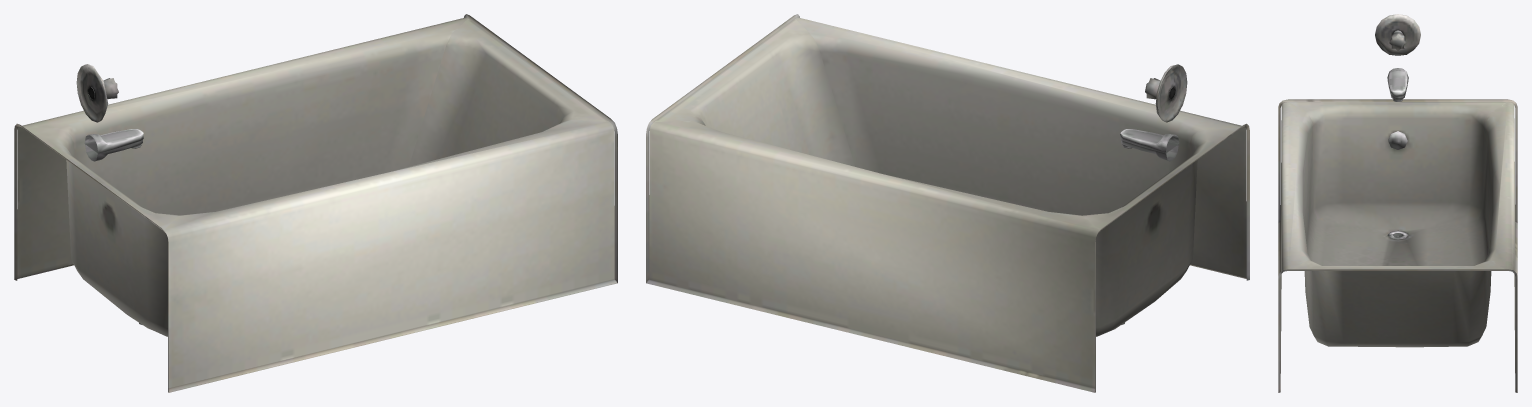
The model's file is bathtub.obj.
3 views of the same model, side by side, from view 1: azimuth 30°, elevation 25°; view 2: azimuth 150°, elevation 25°; view 3: azimuth 270°, elevation 25° (orthographic). The views are drawn at different scales.
Parts seen in each view (by area): view 1: Model001_4_bathtub_1_0_0; view 2: Model001_4_bathtub_1_0_0; view 3: Model001_4_bathtub_1_0_0.
Boxes of the visible parts, x1,y1,x2,y2 form: Model001_4_bathtub_1_0_0: (14, 14, 617, 392); Model001_4_bathtub_1_0_0: (646, 14, 1249, 392); Model001_4_bathtub_1_0_0: (1278, 14, 1517, 392).
Bounding box in the file's own units: 2.31 × 1.33 × 1.38.
